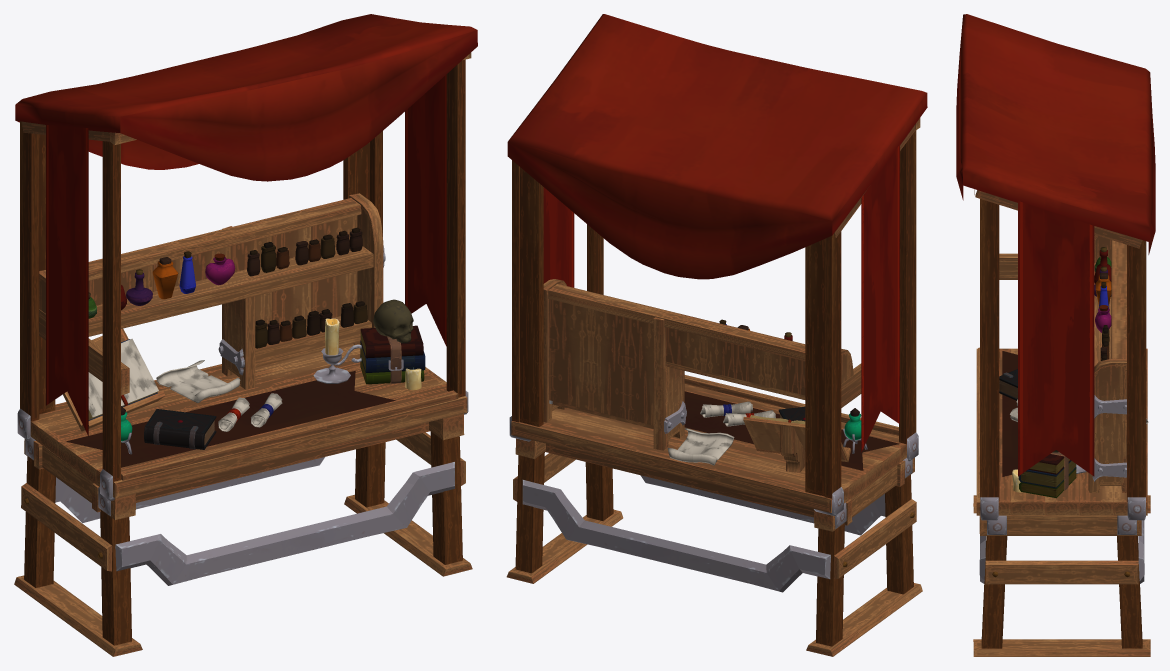
File: Stall_Potions.gltf
The picture shows the model from 3 angles, left to right: view 1: azimuth 30°, elevation 25°; view 2: azimuth 150°, elevation 25°; view 3: azimuth 270°, elevation 25°; orthographic projection. The views are drawn at different scales.
Visible parts, largest first — view 1: Stall_Potions; view 2: Stall_Potions; view 3: Stall_Potions.
Part boxes in pixels (left/top/right/bottom): Stall_Potions: left=14, top=14, right=477, bottom=656; Stall_Potions: left=506, top=14, right=927, bottom=656; Stall_Potions: left=956, top=14, right=1155, bottom=656.
Size of the model in its own units: 1.84 by 2.66 by 0.9818.
6 materials, 6 textured.
